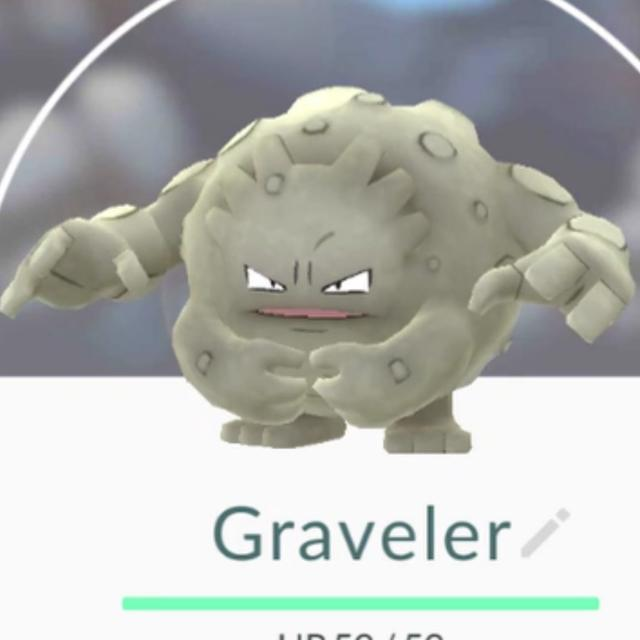Graveler: (22, 78, 638, 482)
